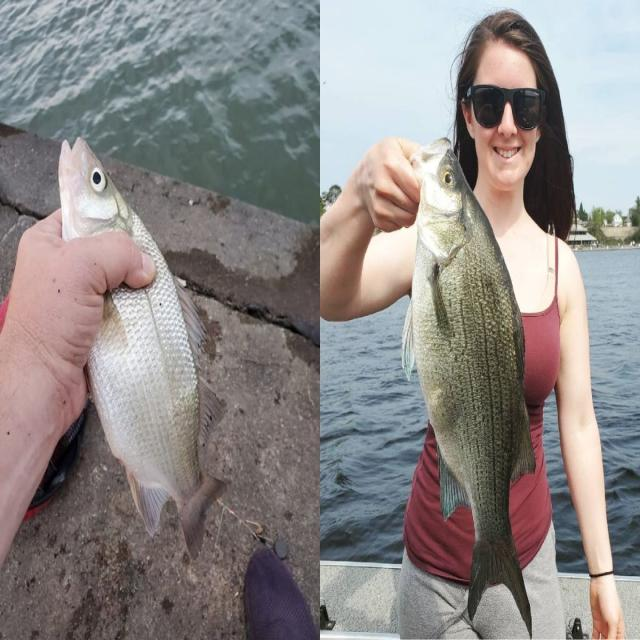Perch - White: (59, 137, 225, 558), (402, 139, 535, 632)
